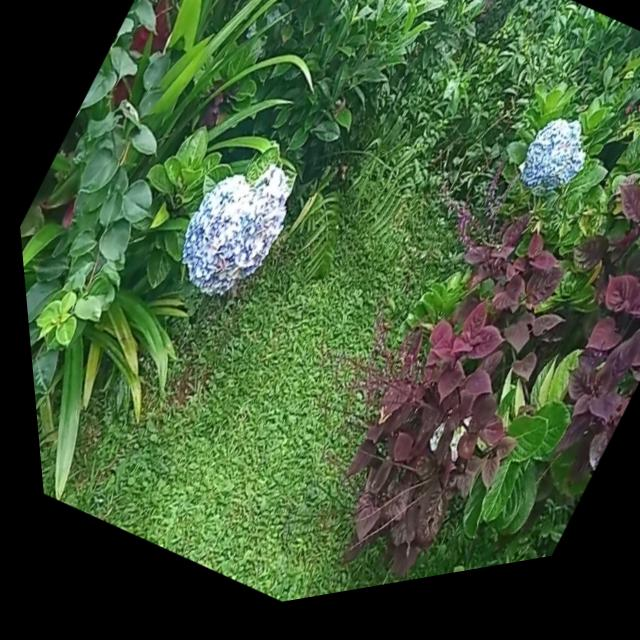Flower: (140, 137, 316, 341), (497, 114, 606, 236)
